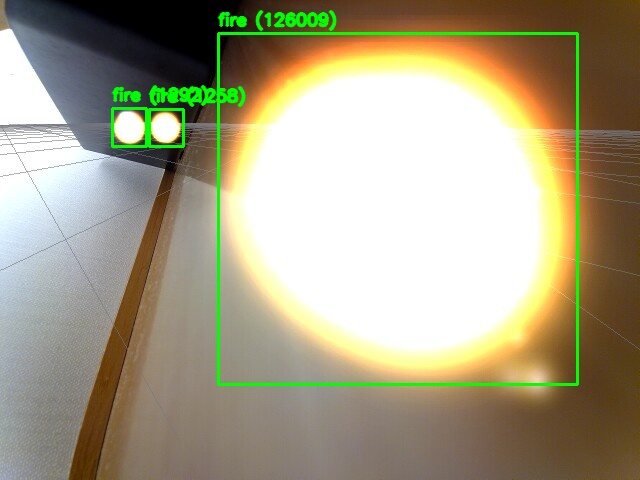fire: (218, 33, 577, 384), (112, 108, 146, 146), (149, 109, 183, 146)
